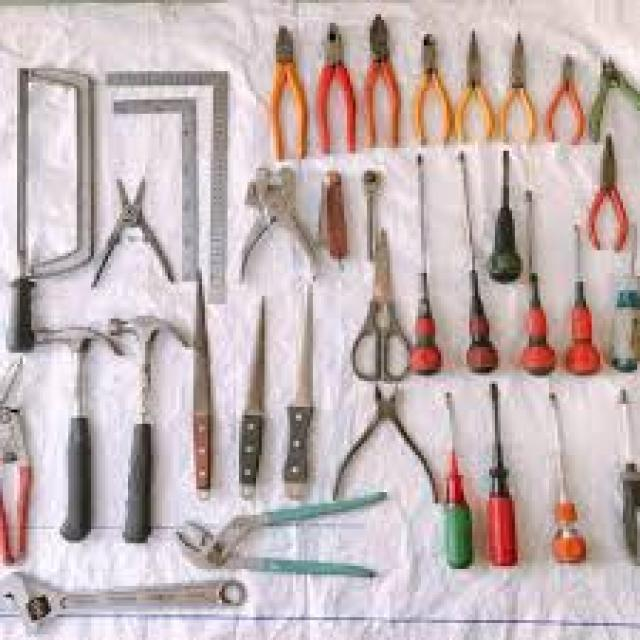hammer: (27, 314, 124, 548), (107, 306, 195, 556)
screwdriver: (451, 148, 502, 378), (400, 149, 450, 380), (511, 183, 562, 380), (540, 384, 594, 569), (560, 220, 609, 382), (482, 380, 522, 570), (441, 379, 478, 576), (484, 144, 524, 288), (611, 382, 640, 570)
